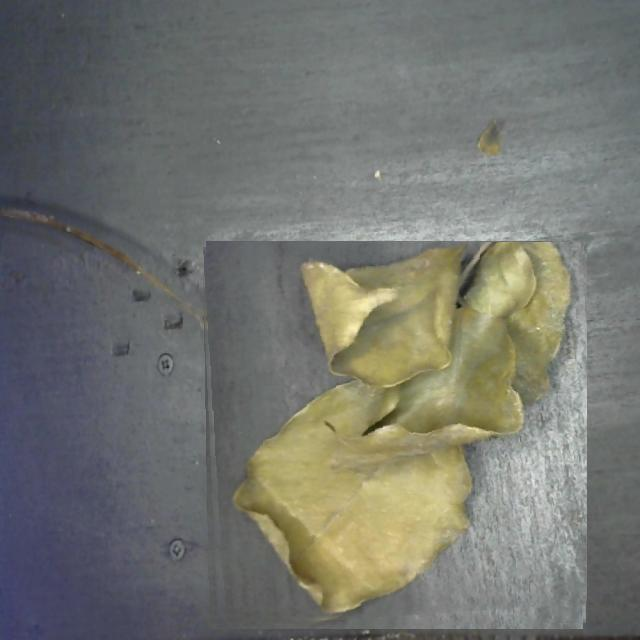biodegradable: (201, 242, 587, 628)
